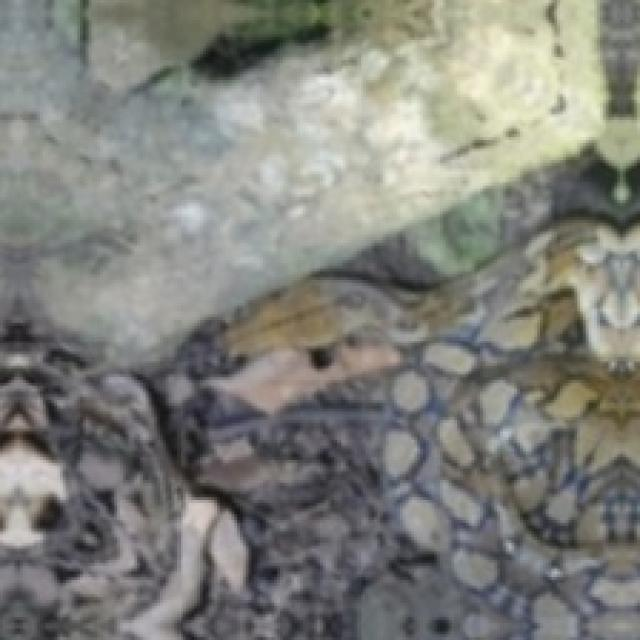reticulated python: (230, 222, 640, 640)
